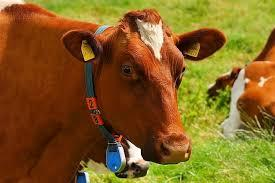cow: (0, 5, 226, 182), (209, 24, 275, 132)
